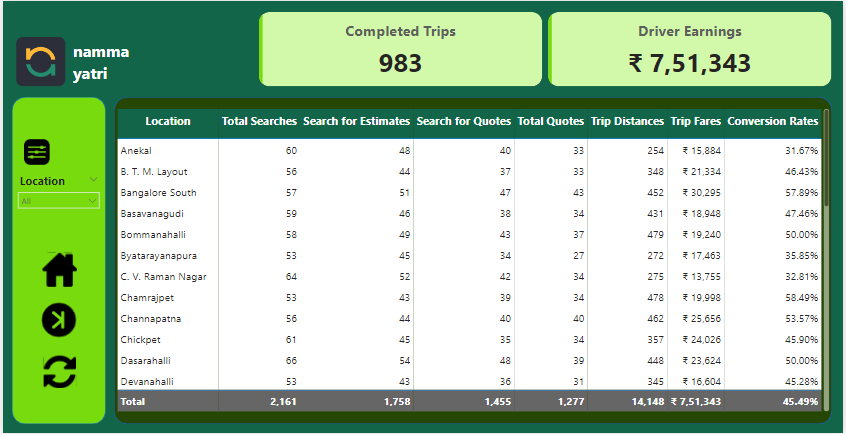

The page's visual inventory and layout, read from the dashboard file:
{"tool":"powerbi","page":{"name":"Dashboard2","canvas":[1400,720],"ordinal":1},"visuals":[{"type":"shape","box":[184.4,159.4,1196.9,545.3],"z":0},{"type":"tableEx","fields":{"Values":["loc (2).assembly1","Sum(Merge2.searches)","Sum(Merge2.searches_got_estimate)","Sum(Merge2.searches_for_quotes)","Sum(Merge2.searches_got_quotes)","Sum(Merge2.trips.distance)","Sum(Merge2.trips.fare)","Calculations.Conversion Rate"]},"box":[184.4,175,1196.9,514.1],"z":1000},{"type":"cardVisual","fields":{"Data":["Sum(trips_details.end_ride)","Sum(trips.fare)"]},"box":[421.9,12.5,965.6,134.4],"z":2000},{"type":"shape","box":[15.6,159.4,156.2,545.3],"z":3000},{"type":"actionButton","box":[64.1,584.4,62.5,65.6],"z":4000},{"type":"actionButton","box":[60.9,412.5,65.6,68.8],"z":5000},{"type":"image","box":[15.6,54.7,95.3,92.2],"z":7000},{"type":"textbox","box":[110.9,59.4,112.5,82.8],"z":8000},{"type":"slicer","fields":{"Values":["loc (2).assembly1"]},"box":[15.6,281.2,156.2,78.1],"z":9000},{"type":"image","box":[29.7,223.4,53.1,57.8],"z":10000}]}

Visuals, with their boxes on the page's 1400x720 design canvas (x1, y1, x2, y2). These are canvas units, not pixel positions in the 846x434 screenshot, which may show the page scaled, cropped or inside an application window:
shape: Rect(184, 159, 1381, 705)
tableEx - loc (2).assembly1 x Sum(Merge2.searches): Rect(184, 175, 1381, 689)
cardVisual - Sum(trips_details.end_ride) x Sum(trips.fare): Rect(422, 12, 1388, 147)
shape: Rect(16, 159, 172, 705)
actionButton: Rect(64, 584, 127, 650)
actionButton: Rect(61, 412, 126, 481)
image: Rect(16, 55, 111, 147)
textbox: Rect(111, 59, 223, 142)
slicer - loc (2).assembly1: Rect(16, 281, 172, 359)
image: Rect(30, 223, 83, 281)
